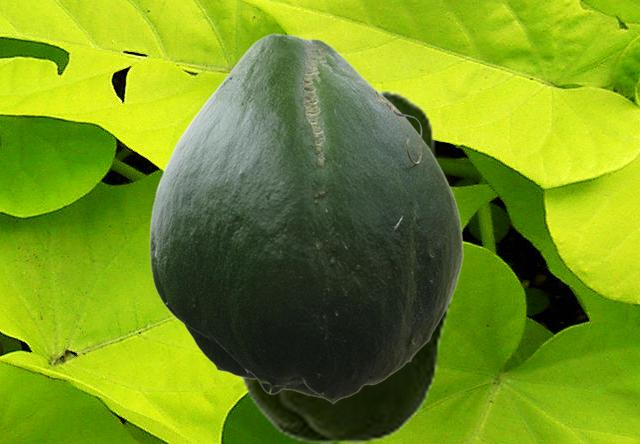sayote: (149, 33, 462, 403), (235, 89, 453, 442)
